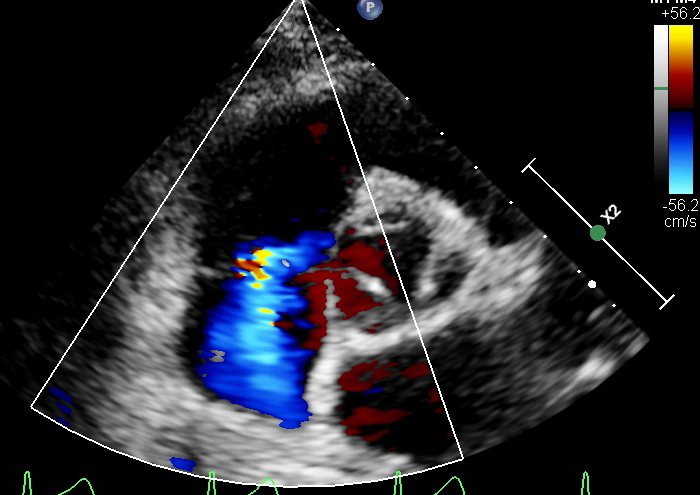TR: (192, 247, 322, 337)
